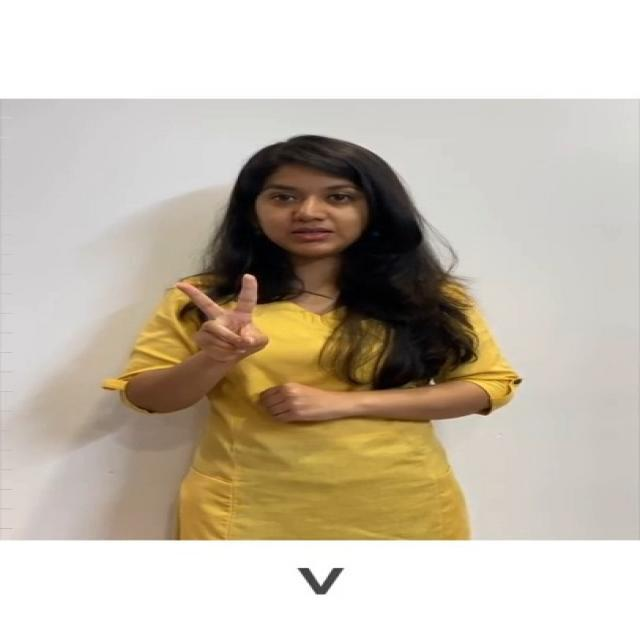V: (172, 263, 284, 354)
